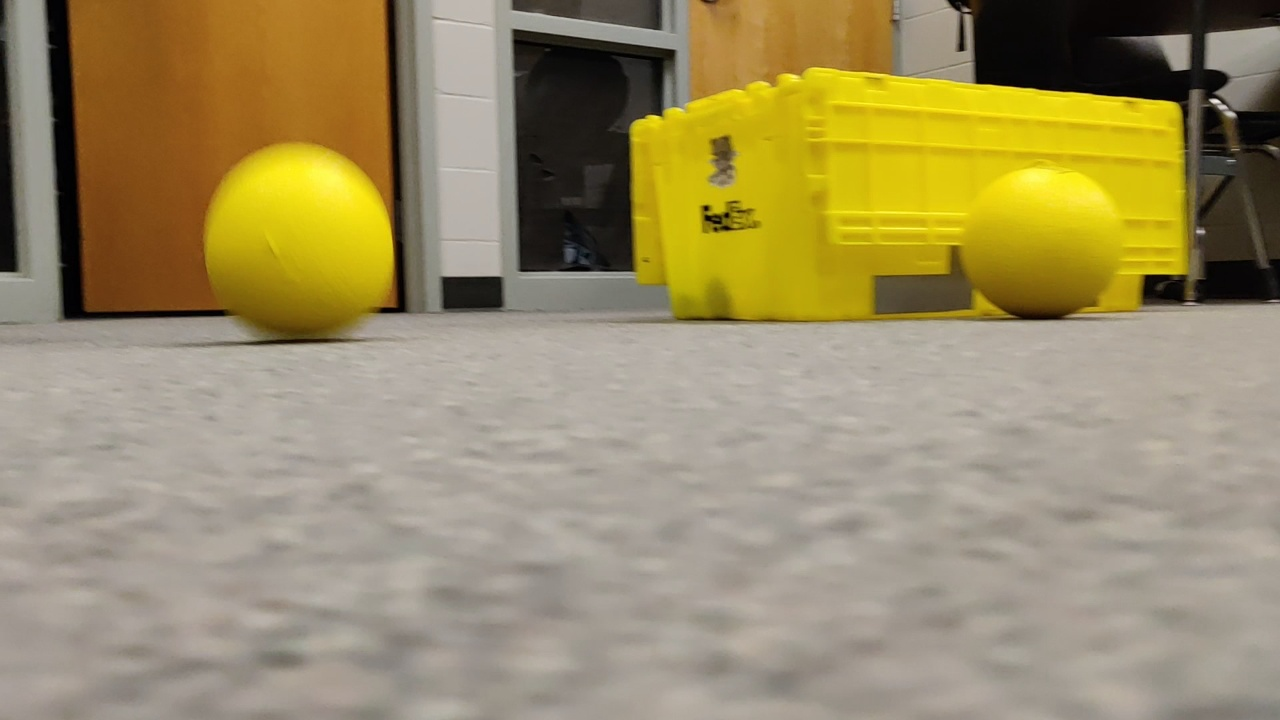Ball: (201, 136, 402, 347), (958, 159, 1119, 321)
